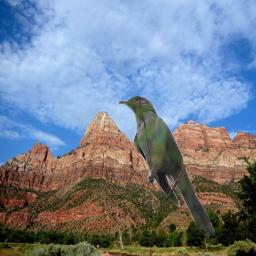Cuckoo: (119, 95, 219, 236)
